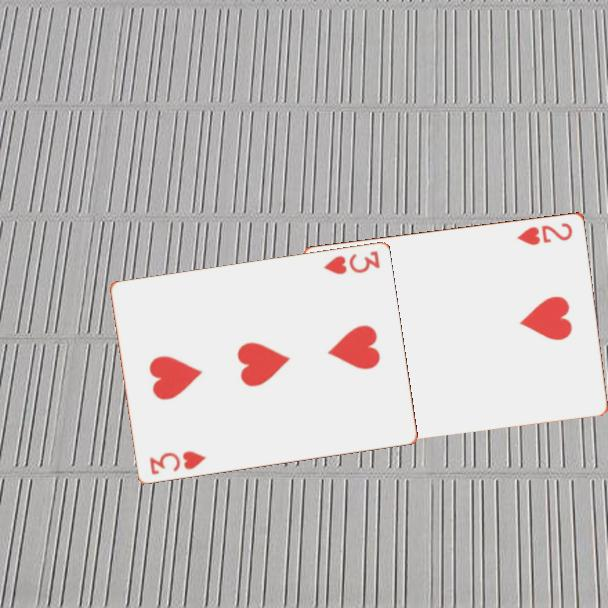h02: (513, 219, 576, 248)
h03: (319, 248, 383, 278), (146, 448, 209, 478)
